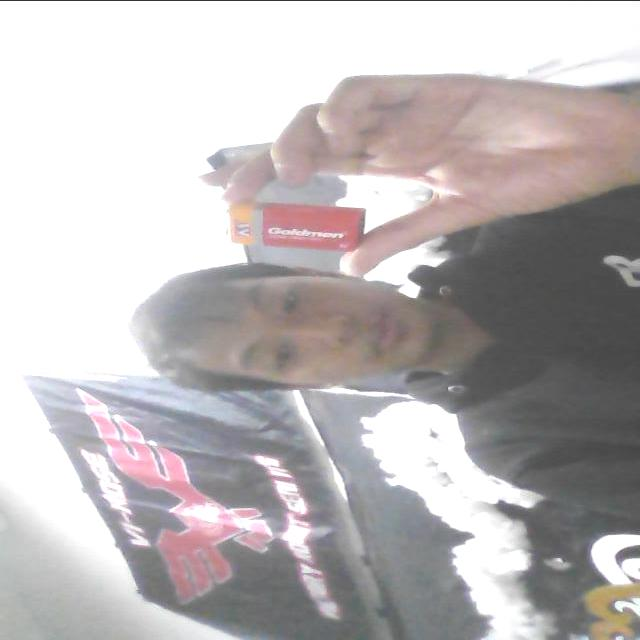9V: (215, 195, 379, 257)
